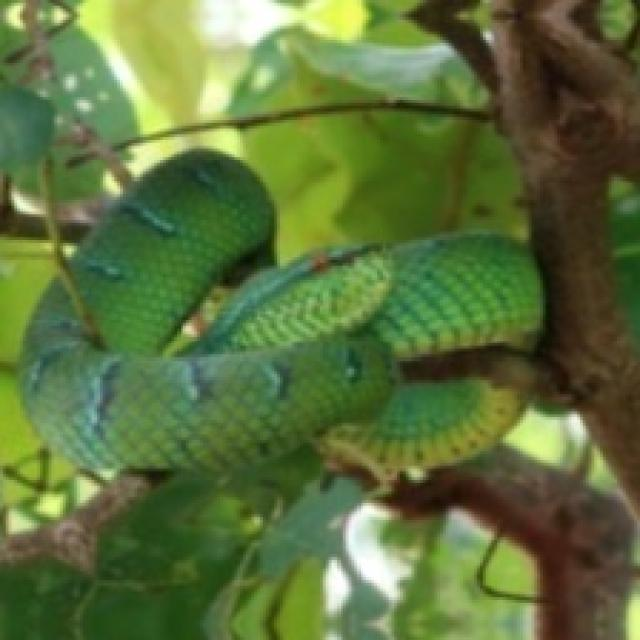north ph temple pitviper: (23, 149, 540, 466)
